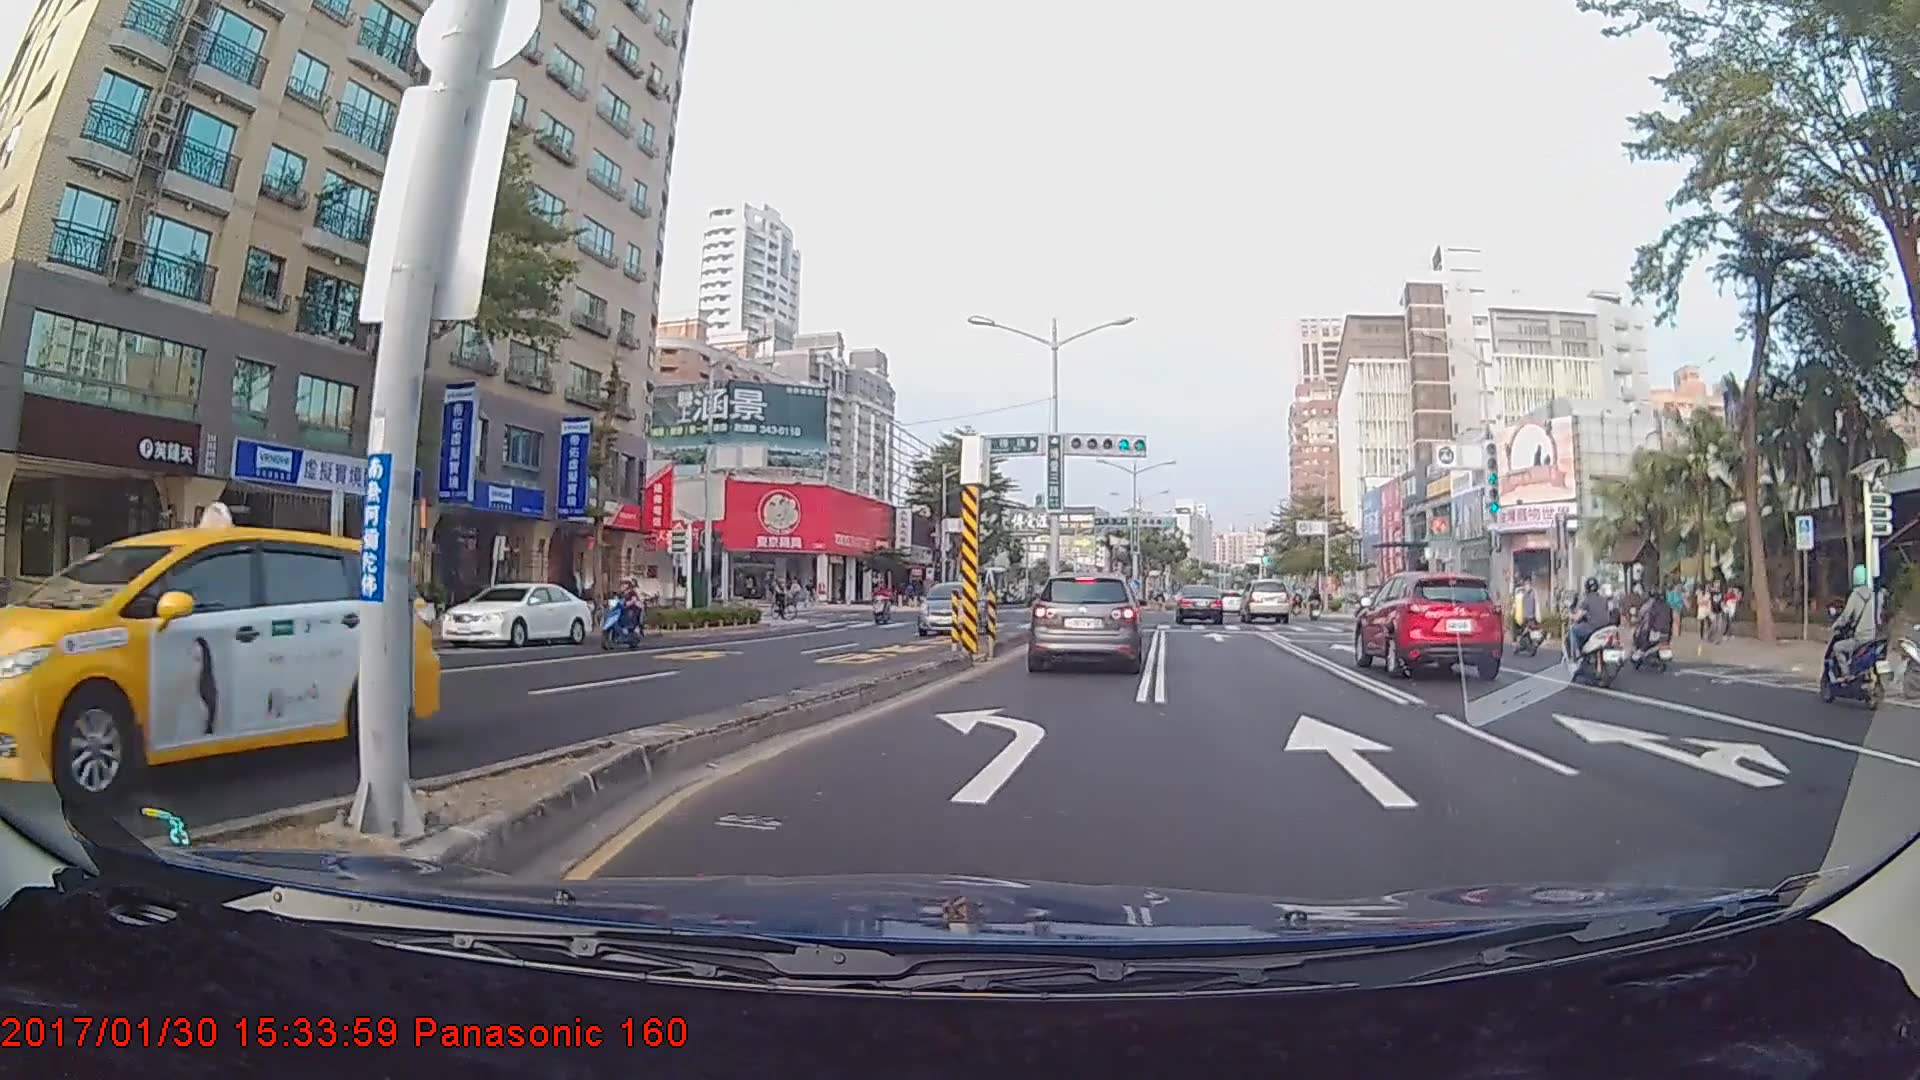pedestrian: (1706, 580, 1727, 644), (1696, 580, 1716, 641)
rider: (1807, 564, 1889, 715), (1555, 572, 1626, 684), (1621, 579, 1672, 674), (591, 574, 650, 655), (864, 577, 895, 629), (764, 576, 795, 626)
vehicle: (0, 526, 440, 809), (1355, 568, 1506, 678), (1028, 571, 1143, 673), (438, 581, 593, 649), (912, 581, 989, 636), (1238, 579, 1291, 624), (1175, 584, 1223, 625)
